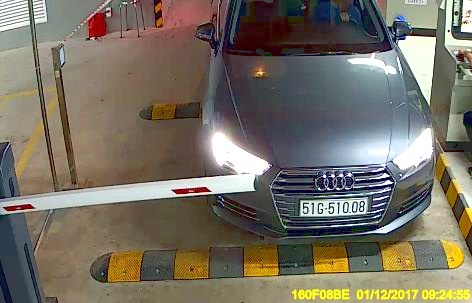plate: (300, 196, 370, 215)
